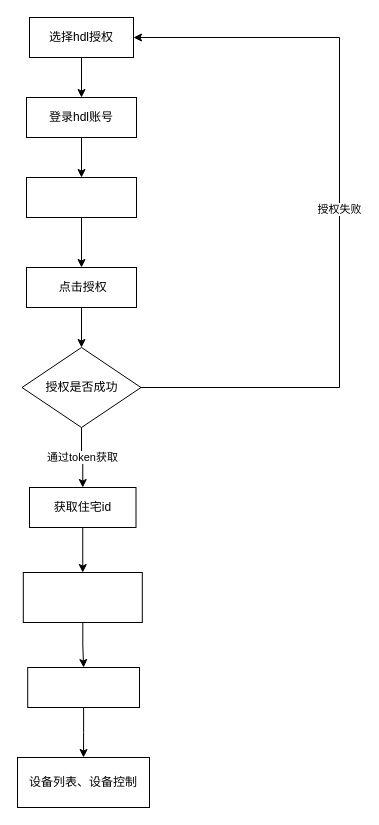
This 379x825 diagram has some shape labels left out. Each missing label, with the box of its shape:
住宅授权给三方用户: (27, 666, 140, 708)
注册三方用户: (22, 572, 142, 622)
选择住宅: (26, 176, 136, 218)
